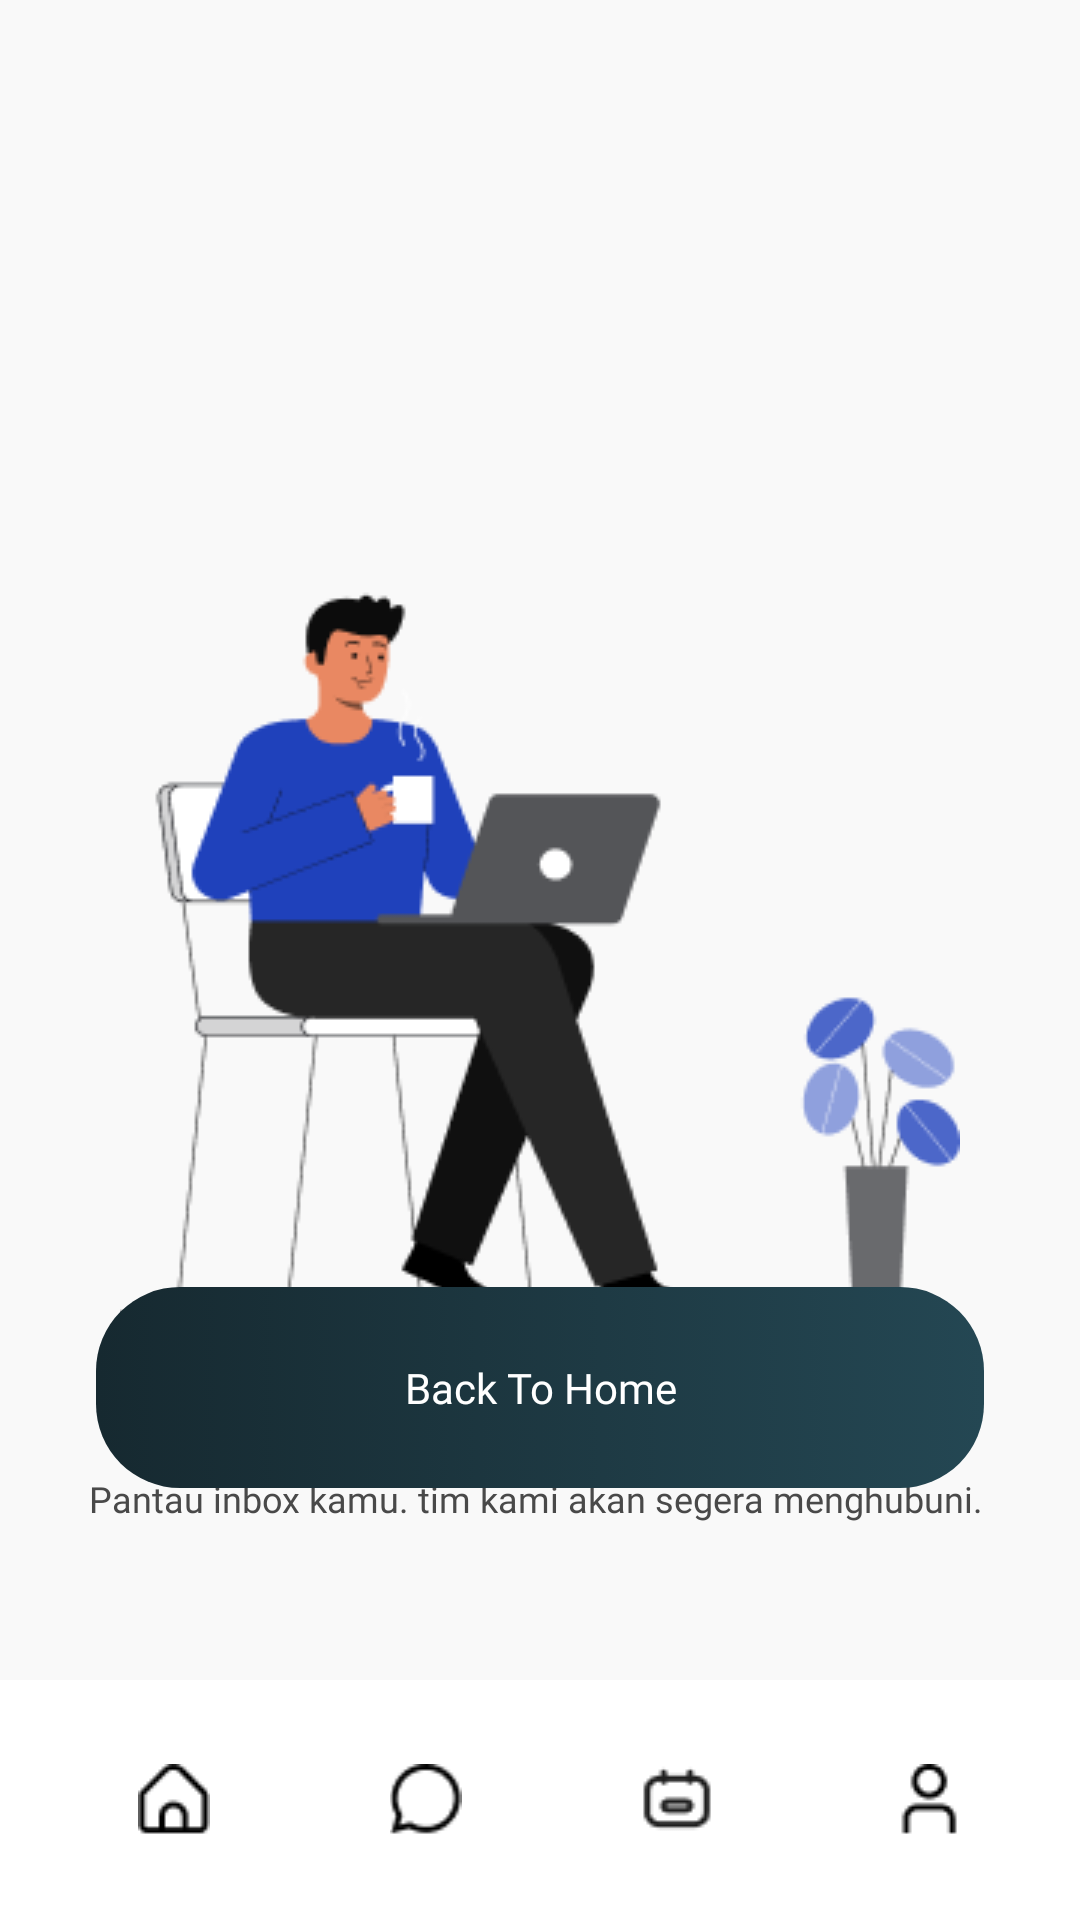

Icons on this 1080 × 1920 Android screen, each with its box as (x1, y1, x2, y2):
activity: (643, 1769, 711, 1829)
home: (138, 1764, 210, 1834)
inbox: (390, 1764, 462, 1834)
profile: (901, 1764, 957, 1834)
